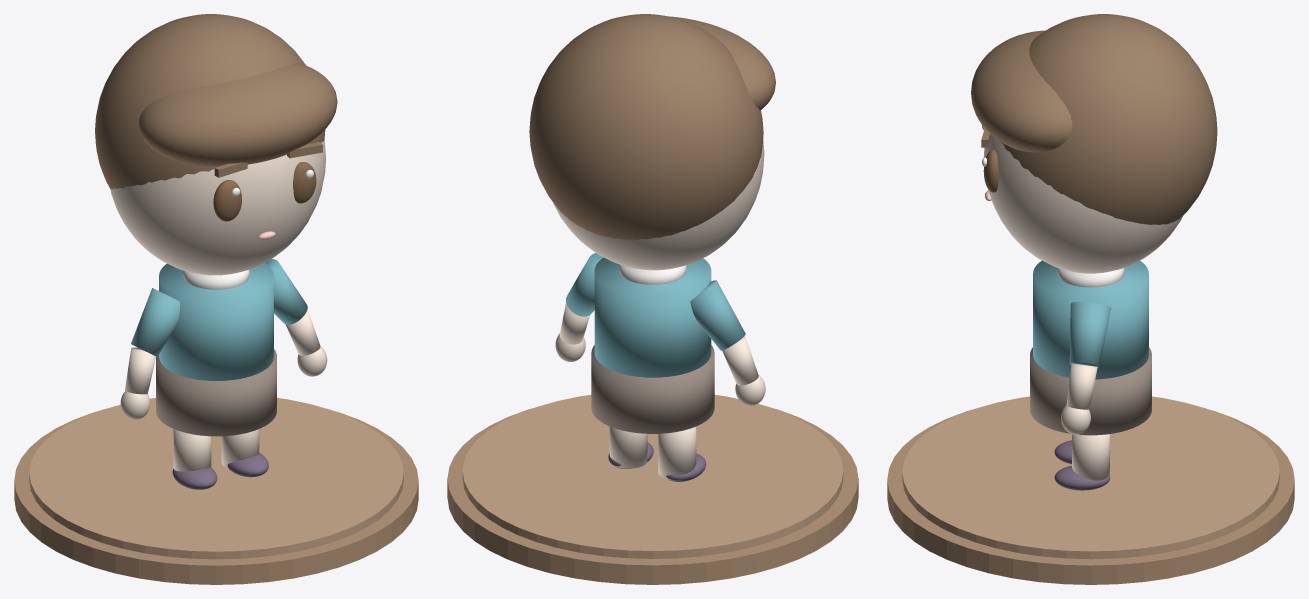
File: boy_doll.glb
3 views of the same model, side by side, from view 1: azimuth 30°, elevation 25°; view 2: azimuth 150°, elevation 25°; view 3: azimuth 270°, elevation 25° (orthographic).
Parts seen in each view (by area): view 1: Cylinder.001, hair_main, head, fringe, Cylinder, Cylinder.002, Cylinder.004, sleeve-1, Cylinder.005, sleeve1, arm-1, Cylinder.006 (+8 smaller); view 2: Cylinder.001, hair_main, Cylinder, Cylinder.002, Cylinder.004, head, fringe, sleeve-1, Cylinder.005, Cylinder.006, sleeve1, arm-1 (+4 smaller); view 3: Cylinder.001, hair_main, Cylinder, head, Cylinder.002, fringe, Cylinder.004, sleeve1, Cylinder.006, arm1, Cylinder.003, shoe1 (+2 smaller).
Boxes of the visible parts, x1,y1,x2,y2 form: Cylinder.001: (29, 398, 403, 559); hair_main: (95, 14, 325, 189); head: (110, 140, 325, 275); fringe: (138, 63, 337, 166); Cylinder: (14, 411, 418, 584); Cylinder.002: (159, 263, 273, 380); Cylinder.004: (156, 349, 276, 436); sleeve-1: (131, 288, 179, 356); Cylinder.005: (173, 429, 211, 471); sleeve1: (265, 259, 307, 324); arm-1: (125, 347, 155, 394); Cylinder.006: (221, 429, 259, 468); Cylinder.001: (462, 395, 843, 558); hair_main: (529, 14, 763, 239); Cylinder: (447, 408, 858, 584); Cylinder.002: (594, 257, 711, 377); Cylinder.004: (591, 345, 714, 433); head: (553, 139, 764, 270); fringe: (668, 16, 775, 110); sleeve-1: (690, 280, 745, 350); Cylinder.005: (658, 426, 696, 480); Cylinder.006: (609, 426, 647, 468); sleeve1: (566, 253, 603, 316); arm-1: (722, 336, 758, 385); Cylinder.001: (902, 396, 1279, 559); hair_main: (1000, 14, 1217, 224); Cylinder: (887, 410, 1294, 584); head: (983, 135, 1182, 273); Cylinder.002: (1033, 260, 1148, 379); fringe: (971, 30, 1072, 152); Cylinder.004: (1030, 347, 1151, 435); sleeve1: (1069, 301, 1110, 367); Cylinder.006: (1072, 434, 1109, 483); arm1: (1066, 363, 1097, 409); Cylinder.003: (1057, 268, 1124, 287); shoe1: (1054, 465, 1110, 490).
Bounding box in the file's own units: 1.9 × 2.44 × 1.9.
